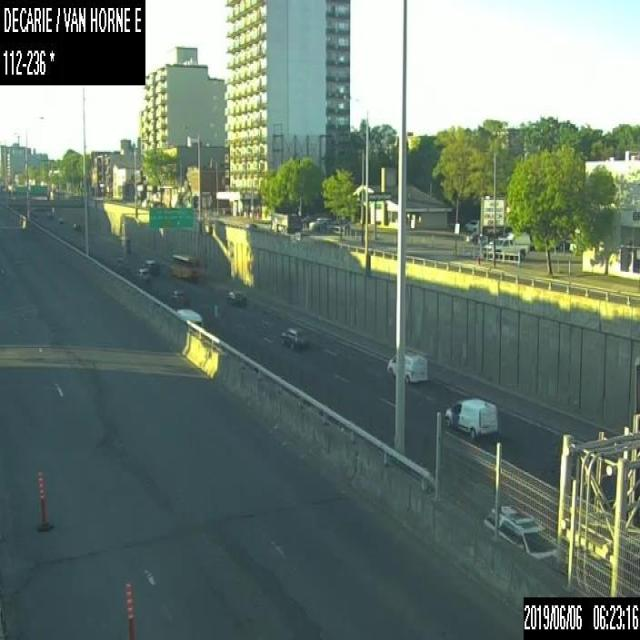bus: (169, 252, 200, 279)
construction: (34, 468, 54, 532), (122, 576, 136, 639)
vehicle: (483, 502, 556, 560), (444, 399, 497, 437), (385, 349, 429, 382), (482, 230, 530, 258), (279, 325, 306, 348), (176, 309, 202, 327), (138, 257, 159, 278), (224, 288, 247, 305), (463, 218, 479, 231), (71, 221, 81, 231), (57, 215, 63, 222)
